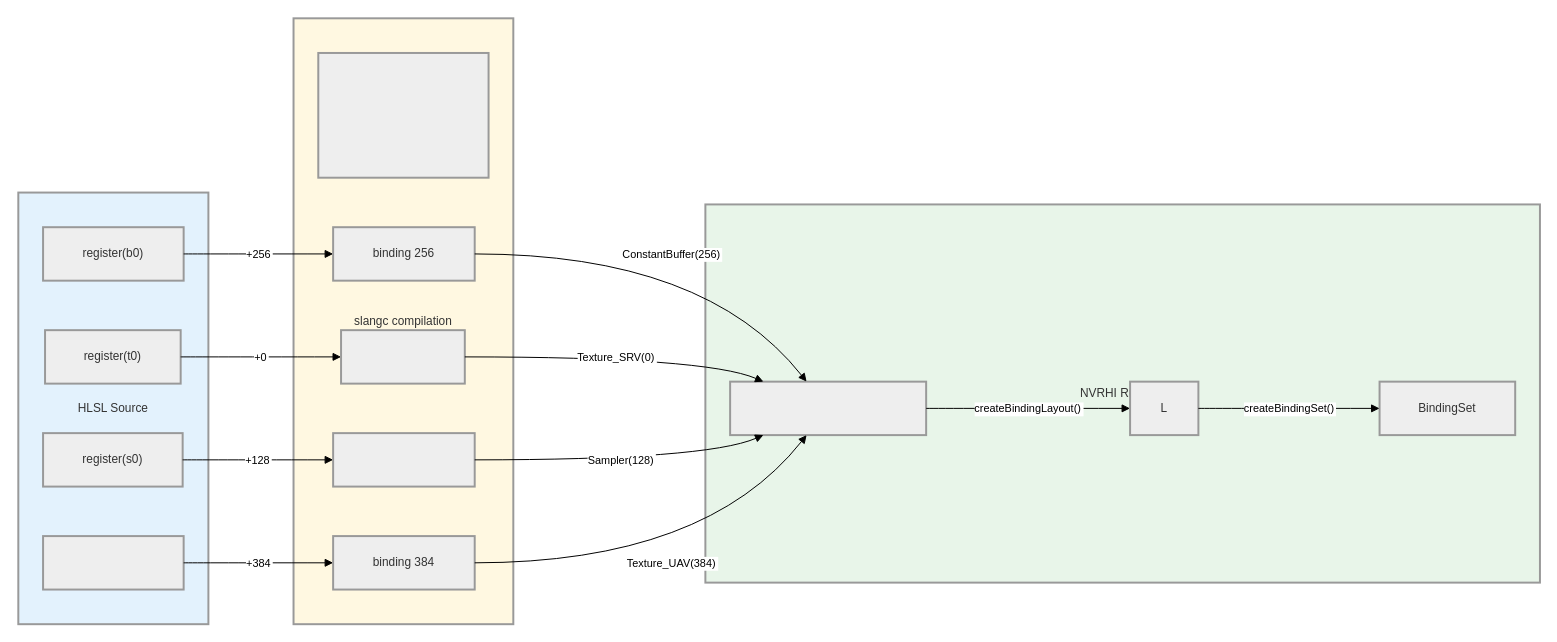
Image size: 1557x642. Some labels were removed from this diagram. The centre of each missing label's shape, as x and y in pixels:
--bRegShift 256 --tRegShift 0 --sRegShift 128 --uRegShift 384: the point at 403,114
binding 0: the point at 402,356
binding 128: the point at 403,459
BindingLayoutDesc: the point at 828,408
register(u0): the point at 113,562
